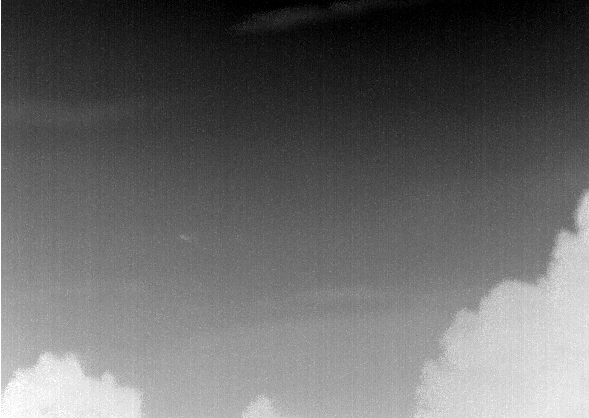dim target: (179, 233, 191, 242)
